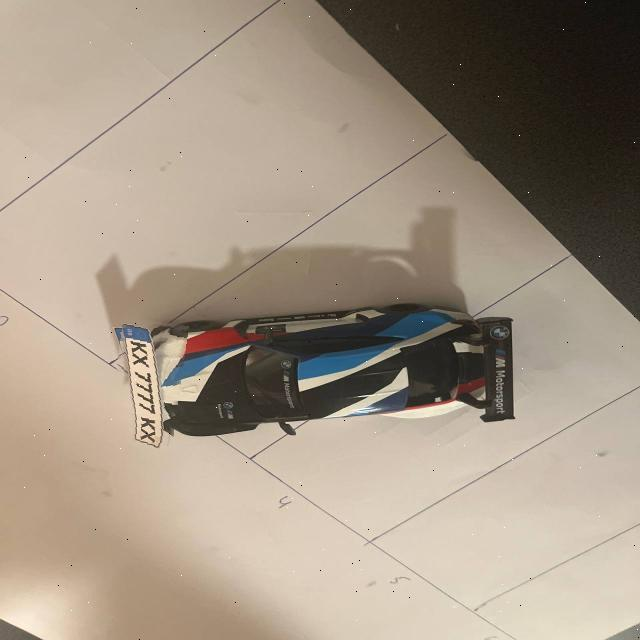KX 7777 KX: (124, 319, 172, 451)
